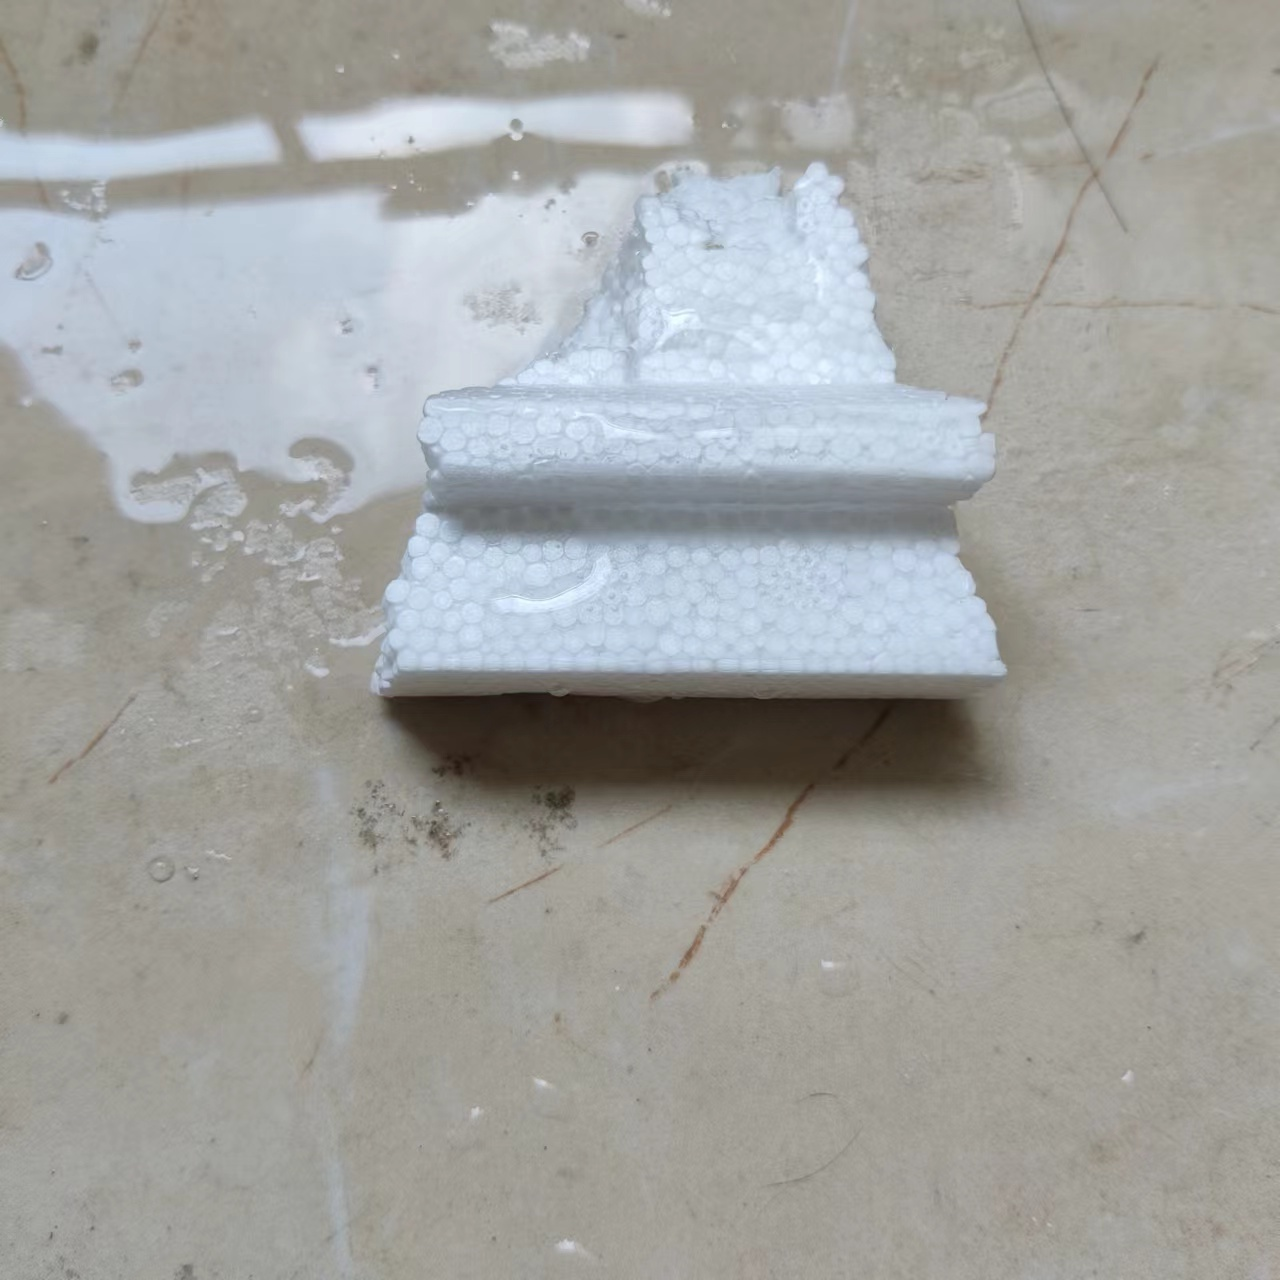5/可回收垃圾/泡沫: (370, 158, 1007, 704)
